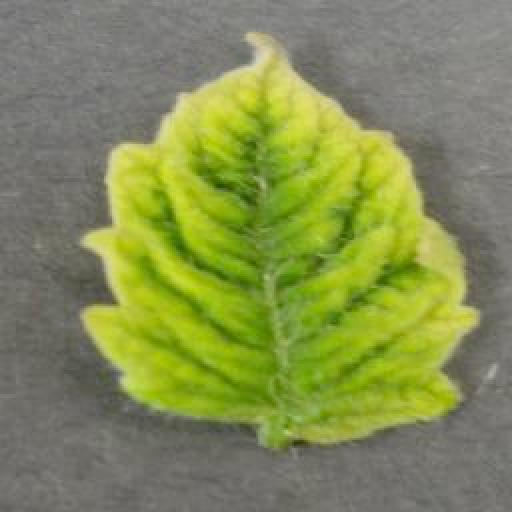disease_tomato: (79, 32, 481, 446)
